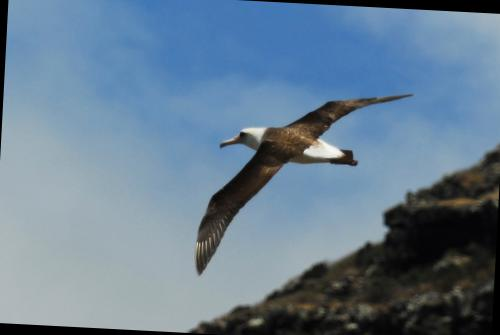bird: (165, 65, 430, 291)
